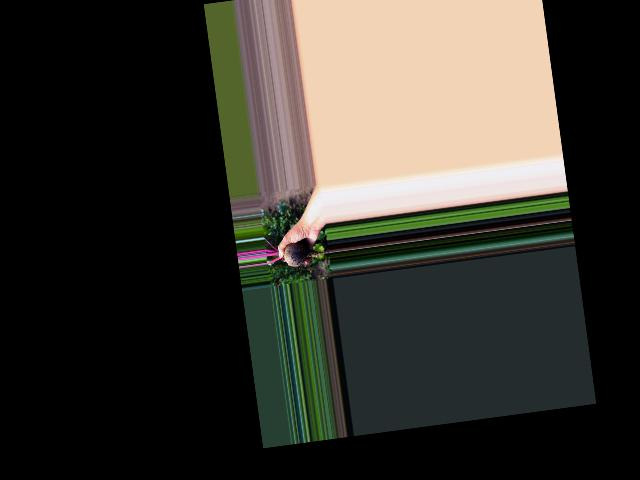beet: (263, 228, 332, 280)
